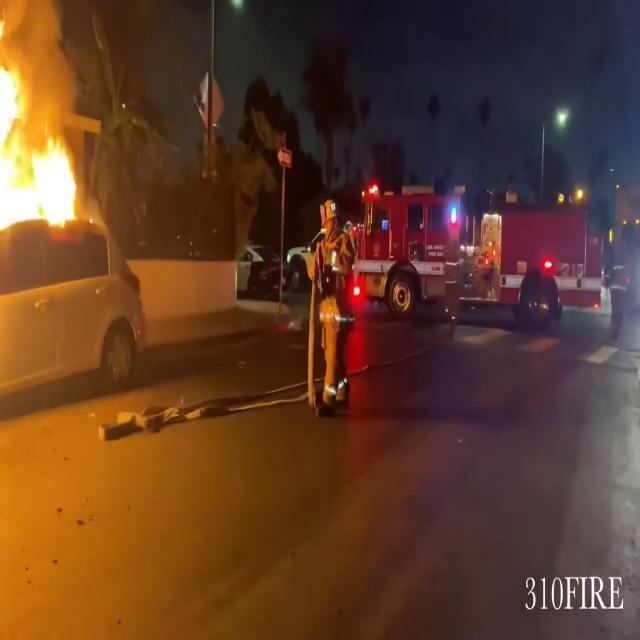Fire: (0, 4, 90, 256)
